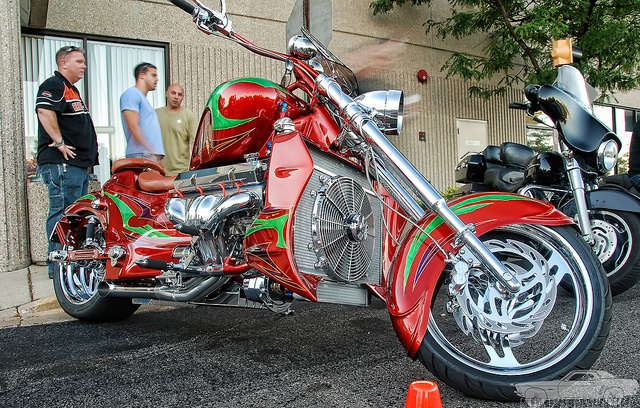non-vehicle: (46, 0, 614, 400), (453, 66, 638, 297)
